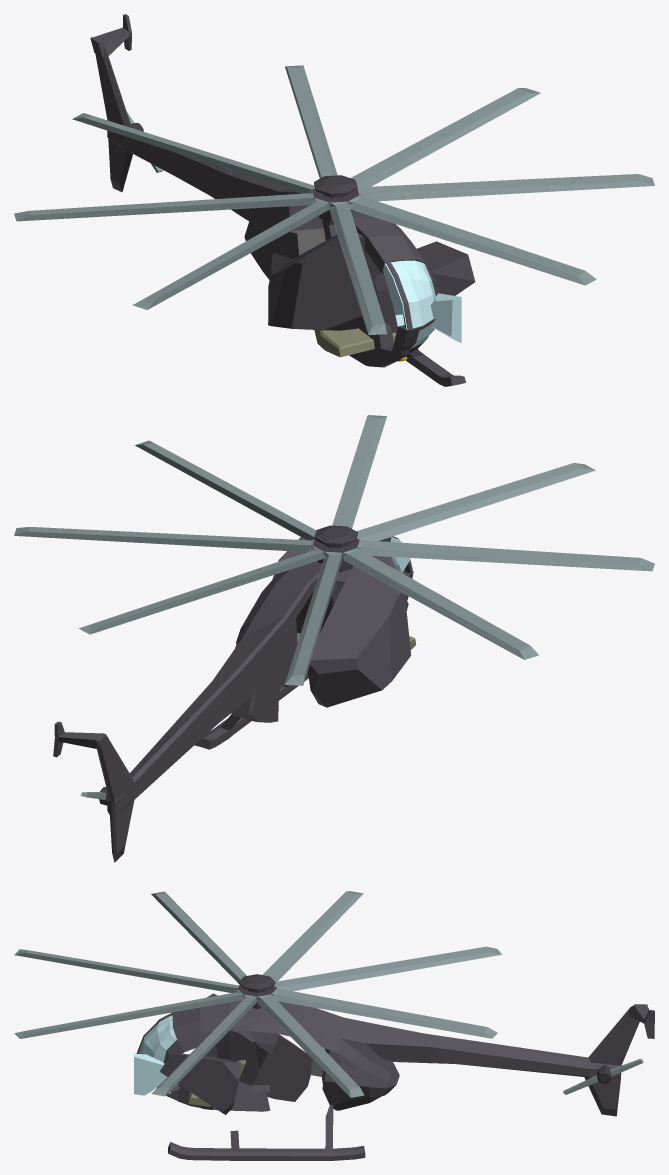
Rendered from brokenhelicopter.fbx.
3 renders of one model, top to bottom at view 1: azimuth 30°, elevation 25°; view 2: azimuth 150°, elevation 25°; view 3: azimuth 270°, elevation 25°, orthographic. The views are drawn at different scales.
Parts seen in each view (by area): view 1: Plane_cell.006, Plane_cell.004, Cylinder_cell.013, Plane_cell.011, Cylinder_cell.012, Plane_cell.003, Cylinder_cell.019, Cylinder_cell.011, Plane_cell.007, Plane_cell.005, Cylinder_cell.007, Plane_cell.010 (+12 smaller); view 2: Plane_cell.006, Plane_cell.011, Plane_cell.004, Cylinder_cell.011, Cylinder_cell.013, Plane_cell.005, Cylinder_cell.019, Cylinder_cell.016, Cylinder_cell.023, Cylinder_cell.012, Cylinder_cell.003, Cylinder_cell.006 (+7 smaller); view 3: Plane_cell.004, Plane_cell.011, Plane_cell.003, Plane_cell.006, Plane_cell.005, Plane_cell.019, Cylinder_cell.023, Plane_cell.008, Cylinder_cell.013, Cylinder_cell.016, Plane_cell.010, Cylinder_cell.019 (+17 smaller).
Boxes of the visible parts, x1=… form: Plane_cell.006: x1=268, y1=232, x2=364, y2=330; Plane_cell.004: x1=90, y1=14, x2=179, y2=192; Cylinder_cell.013: x1=14, y1=186, x2=328, y2=221; Plane_cell.011: x1=177, y1=153, x2=286, y2=268; Cylinder_cell.012: x1=408, y1=215, x2=596, y2=285; Plane_cell.003: x1=373, y1=241, x2=475, y2=332; Cylinder_cell.019: x1=392, y1=89, x2=540, y2=174; Cylinder_cell.011: x1=182, y1=200, x2=350, y2=279; Plane_cell.007: x1=314, y1=319, x2=393, y2=367; Plane_cell.005: x1=263, y1=184, x2=325, y2=259; Cylinder_cell.007: x1=517, y1=174, x2=654, y2=193; Plane_cell.010: x1=364, y1=225, x2=438, y2=296; Plane_cell.006: x1=308, y1=540, x2=411, y2=707; Plane_cell.011: x1=169, y1=635, x2=279, y2=750; Plane_cell.004: x1=53, y1=721, x2=187, y2=862; Cylinder_cell.011: x1=357, y1=510, x2=583, y2=567; Cylinder_cell.013: x1=338, y1=534, x2=538, y2=659; Plane_cell.005: x1=236, y1=590, x2=310, y2=688; Cylinder_cell.019: x1=15, y1=527, x2=242, y2=548; Cylinder_cell.016: x1=263, y1=537, x2=342, y2=616; Cylinder_cell.023: x1=79, y1=570, x2=265, y2=634; Cylinder_cell.012: x1=340, y1=415, x2=386, y2=508; Cylinder_cell.003: x1=481, y1=463, x2=595, y2=506; Cylinder_cell.006: x1=284, y1=607, x2=324, y2=685; Plane_cell.004: x1=502, y1=1004, x2=654, y2=1116; Plane_cell.011: x1=363, y1=1022, x2=508, y2=1087; Plane_cell.003: x1=160, y1=1053, x2=240, y2=1114; Plane_cell.006: x1=205, y1=993, x2=310, y2=1101; Plane_cell.005: x1=310, y1=1007, x2=368, y2=1084; Plane_cell.019: x1=322, y1=1052, x2=392, y2=1119; Cylinder_cell.023: x1=331, y1=998, x2=497, y2=1038; Plane_cell.008: x1=232, y1=1003, x2=320, y2=1054; Cylinder_cell.013: x1=250, y1=891, x2=363, y2=981; Cylinder_cell.016: x1=266, y1=965, x2=375, y2=1006; Plane_cell.010: x1=163, y1=1007, x2=222, y2=1063; Cylinder_cell.019: x1=275, y1=1020, x2=359, y2=1097.
Bounding box in the file's own units: 790 × 270 × 1034.
